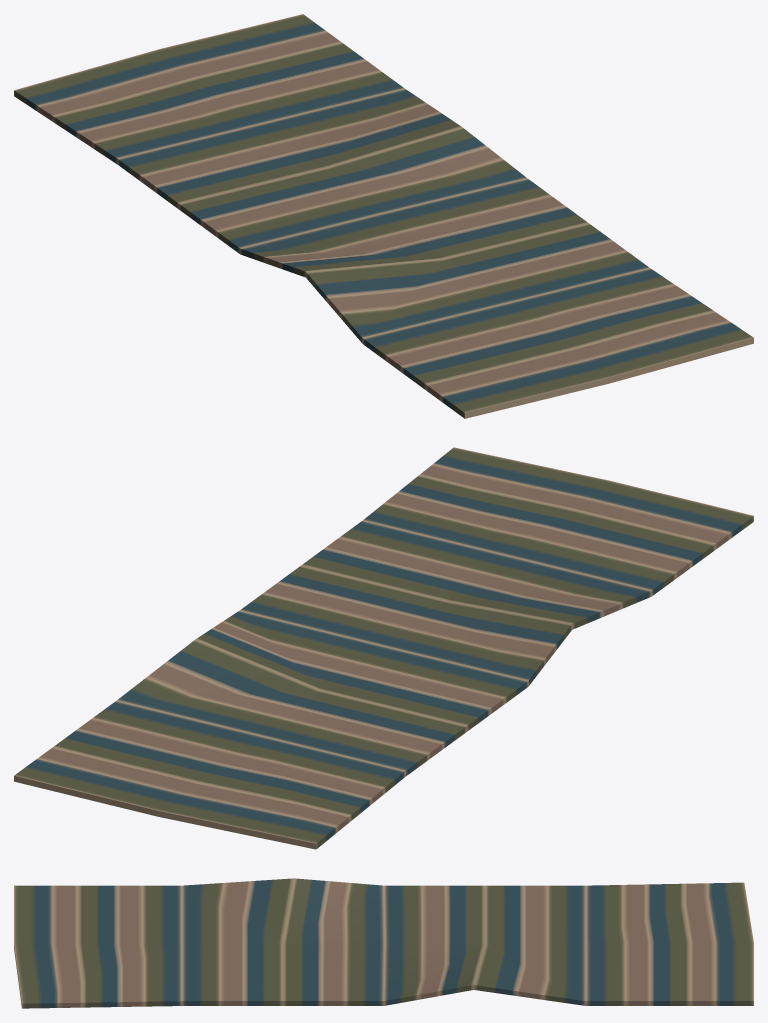
Rendered from SM_Prop_Rug_31.glb.
3 renders of one model, top to bottom at view 1: azimuth 30°, elevation 25°; view 2: azimuth 150°, elevation 25°; view 3: azimuth 270°, elevation 25°, orthographic. The views are drawn at different scales.
Parts seen in each view (by area): view 1: SM_Prop_Rug_31; view 2: SM_Prop_Rug_31; view 3: SM_Prop_Rug_31.
Boxes of the visible parts, x1=… form: SM_Prop_Rug_31: x1=14, y1=14, x2=753, y2=418; SM_Prop_Rug_31: x1=14, y1=447, x2=753, y2=849; SM_Prop_Rug_31: x1=14, y1=878, x2=753, y2=1008.
Size of the model in its own units: 2.18 by 0.1387 by 5.64.
Materials: 1 (1 with a texture image).
